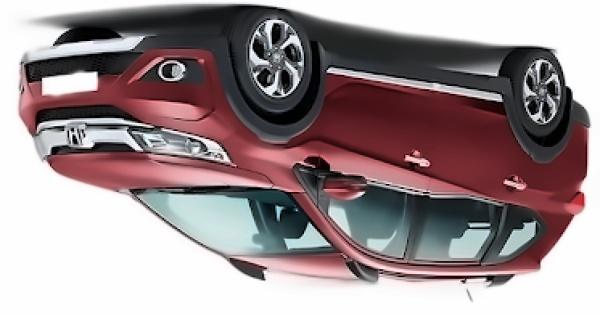Car hood: (42, 152, 277, 196)
Driver-s door - -F-R-: (308, 26, 433, 287)
Fender - -F-R-: (224, 64, 339, 190)
Fender - -R-R-: (499, 75, 591, 220)
Front bumper: (11, 29, 246, 132)
Headlight - -R-: (127, 126, 236, 168)
Passenger-s door - -R-R-: (405, 25, 519, 289)
Rear light - -R-: (557, 191, 587, 217)
Side bumper - -R-: (315, 42, 512, 127)
Side mirror - -R-: (303, 160, 370, 203)
